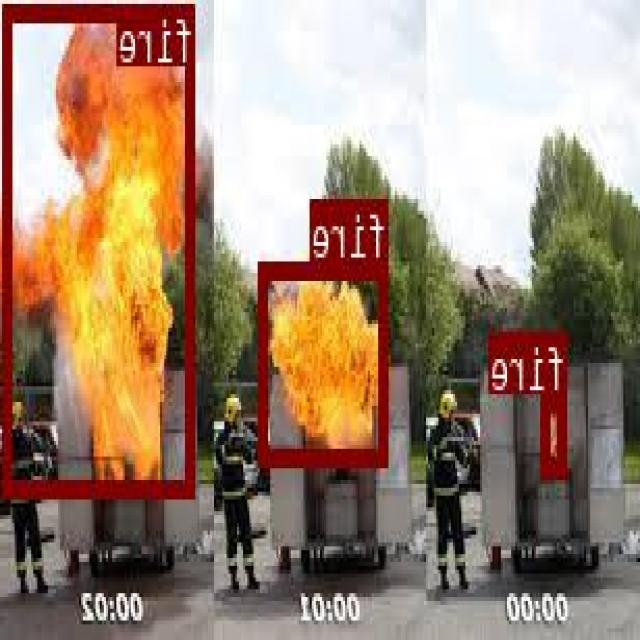fire: (5, 3, 196, 493), (260, 261, 390, 463), (543, 393, 568, 472)
